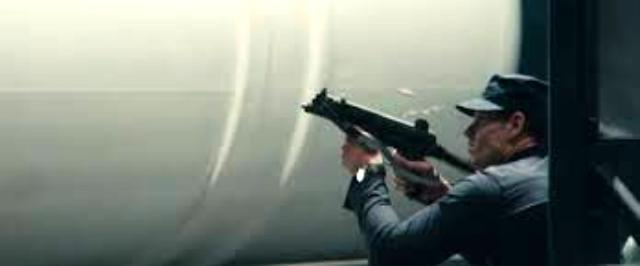rifle: (300, 81, 472, 215)
